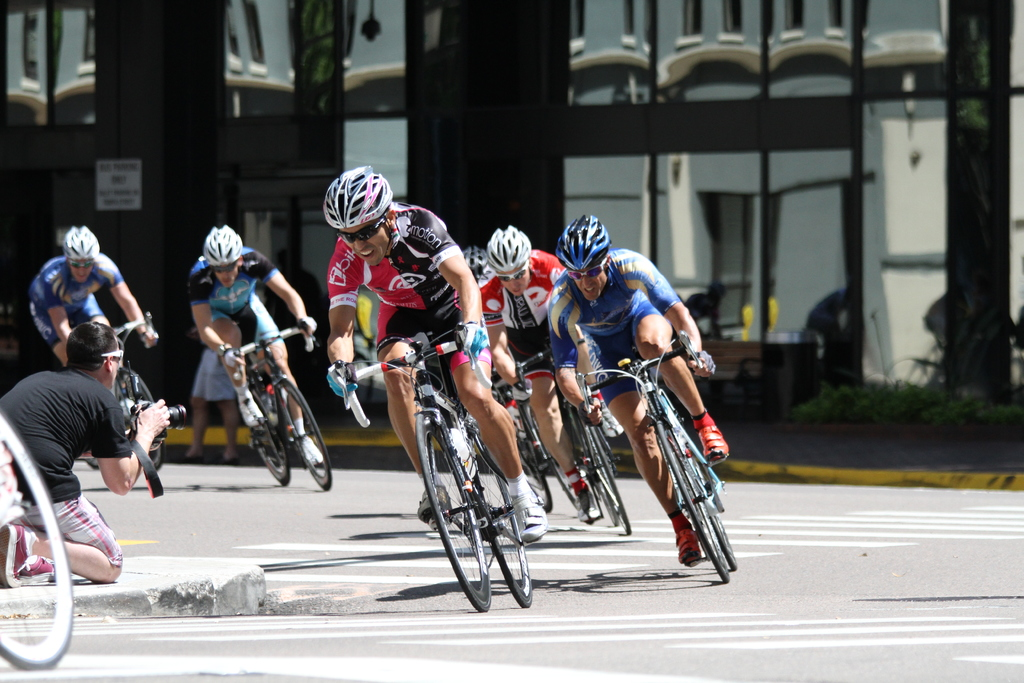Person: (0, 164, 728, 587), (325, 166, 547, 542)
